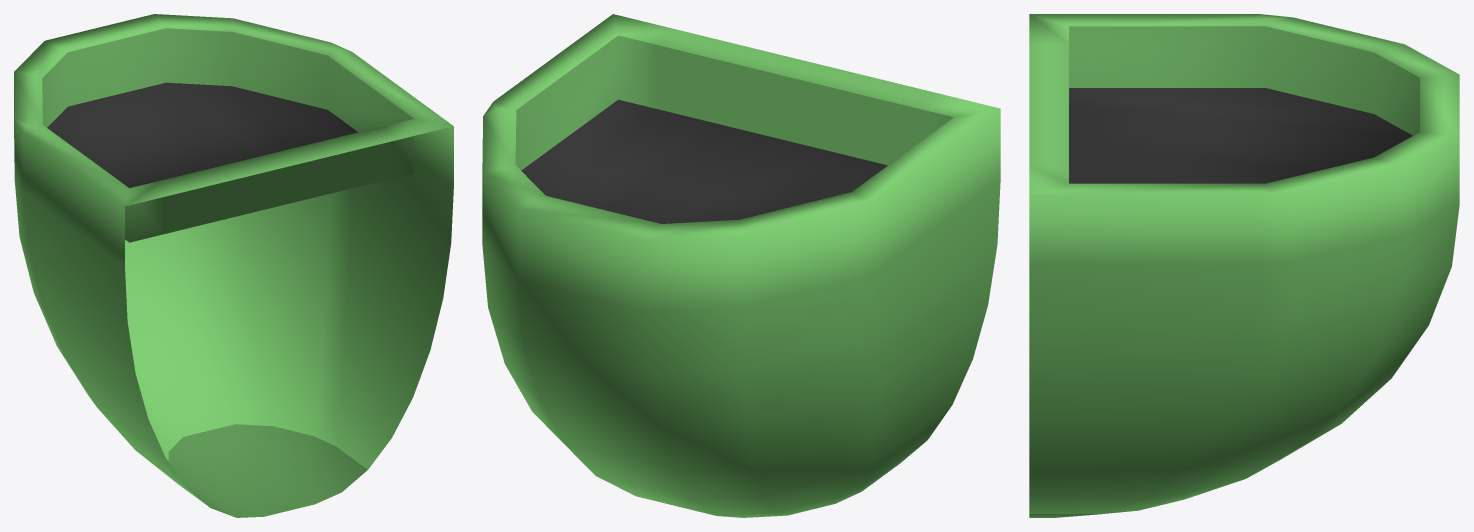
Rendered from MuralTorch2.fbx.
3 renders of one model, left to right at view 1: azimuth 30°, elevation 25°; view 2: azimuth 150°, elevation 25°; view 3: azimuth 270°, elevation 25°, orthographic. The views are drawn at different scales.
Parts seen in each view (by area): view 1: MuralTorch2; view 2: MuralTorch2; view 3: MuralTorch2.
Boxes of the visible parts, <box> form: MuralTorch2: <box>14,14,453,517</box>; MuralTorch2: <box>482,14,1000,517</box>; MuralTorch2: <box>1029,14,1459,517</box>.
Bounding box in the file's own units: 1 × 1 × 1.
